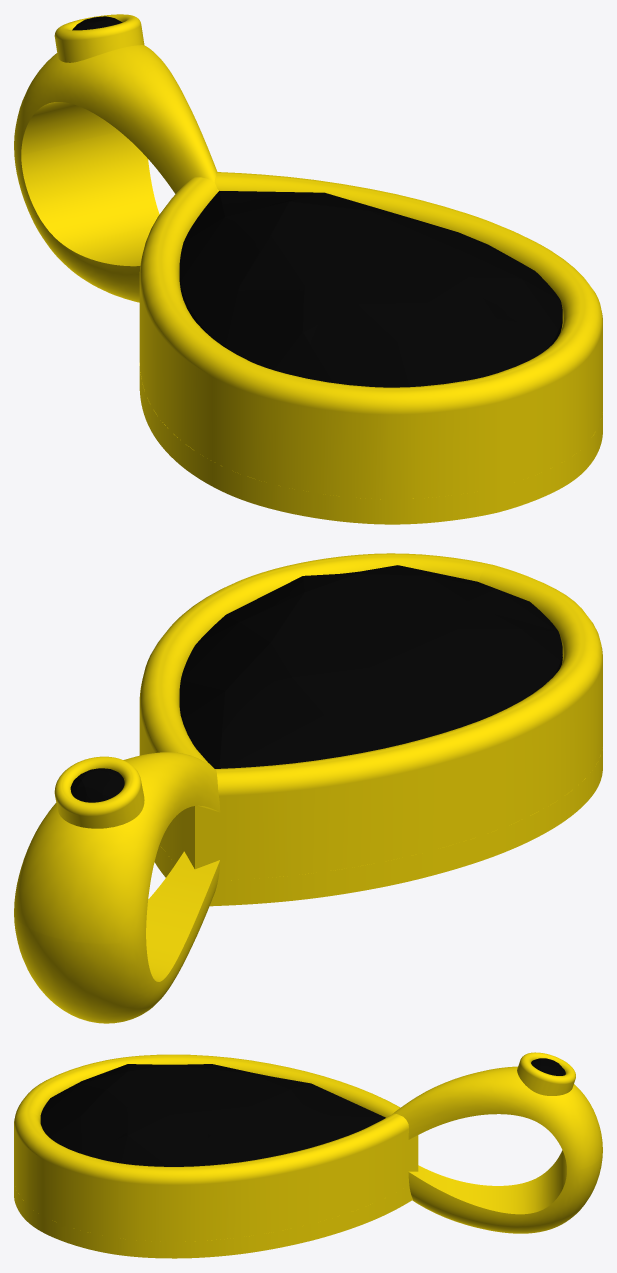
Rendered from pear pendant-optimized.glb.
The picture shows the model from 3 angles, top to bottom: view 1: azimuth 30°, elevation 25°; view 2: azimuth 150°, elevation 25°; view 3: azimuth 270°, elevation 25°; orthographic projection. The views are drawn at different scales.
Visible parts, largest first — view 1: object 1, Diamond_Round; view 2: object 1, Diamond_Round; view 3: object 1, Diamond_Round.
Boxes of the visible parts, bbox=[...] form: object 1: bbox=[14, 14, 602, 524]; Diamond_Round: bbox=[72, 16, 562, 387]; object 1: bbox=[14, 553, 602, 1023]; Diamond_Round: bbox=[70, 565, 562, 802]; object 1: bbox=[14, 1052, 602, 1258]; Diamond_Round: bbox=[40, 1058, 565, 1166].
Bounding box in the file's own units: 0.011 × 0.00711 × 0.0222.
